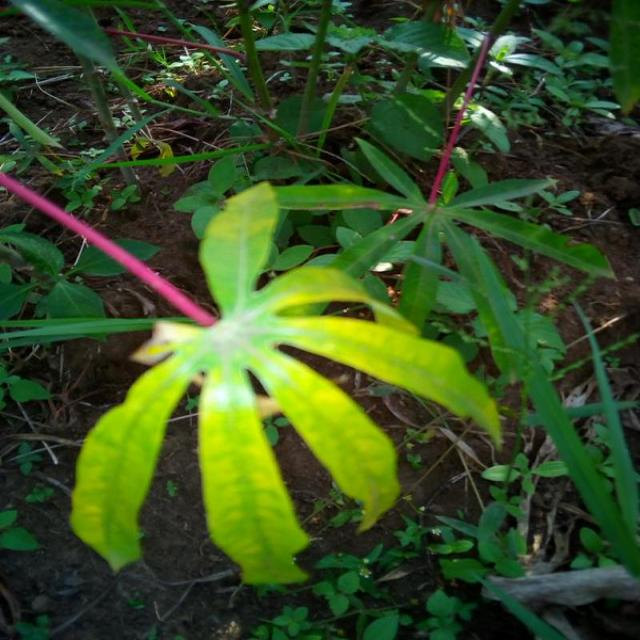cassava leaf: (68, 180, 502, 587)
